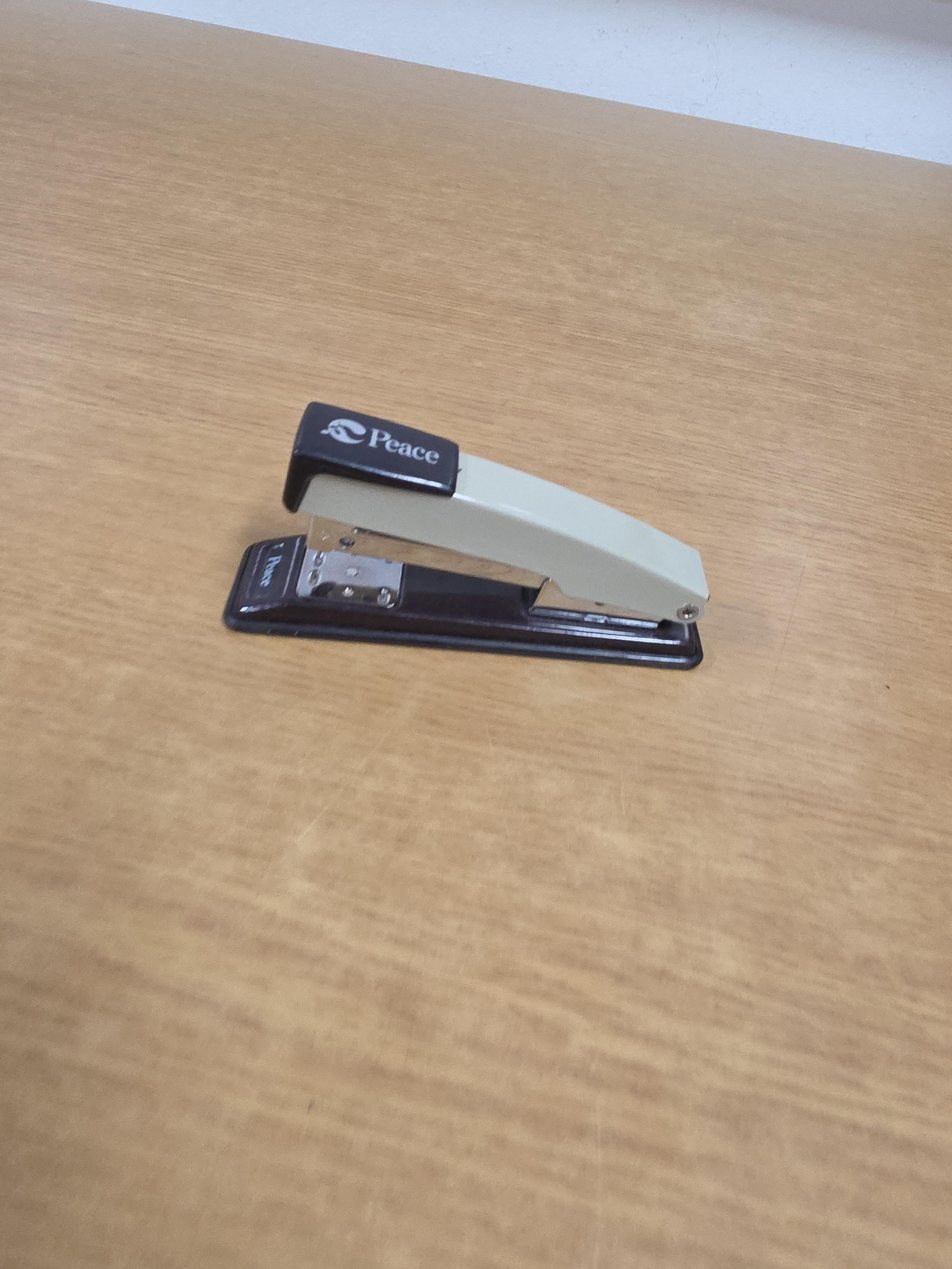stapler: (220, 400, 710, 671)
